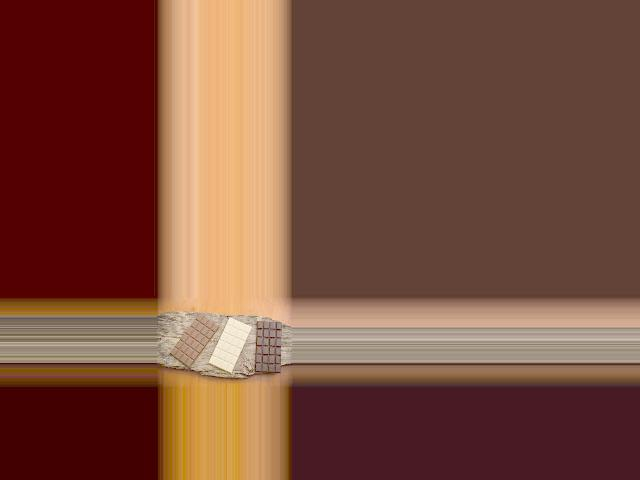chocolate: (255, 321, 282, 373)
